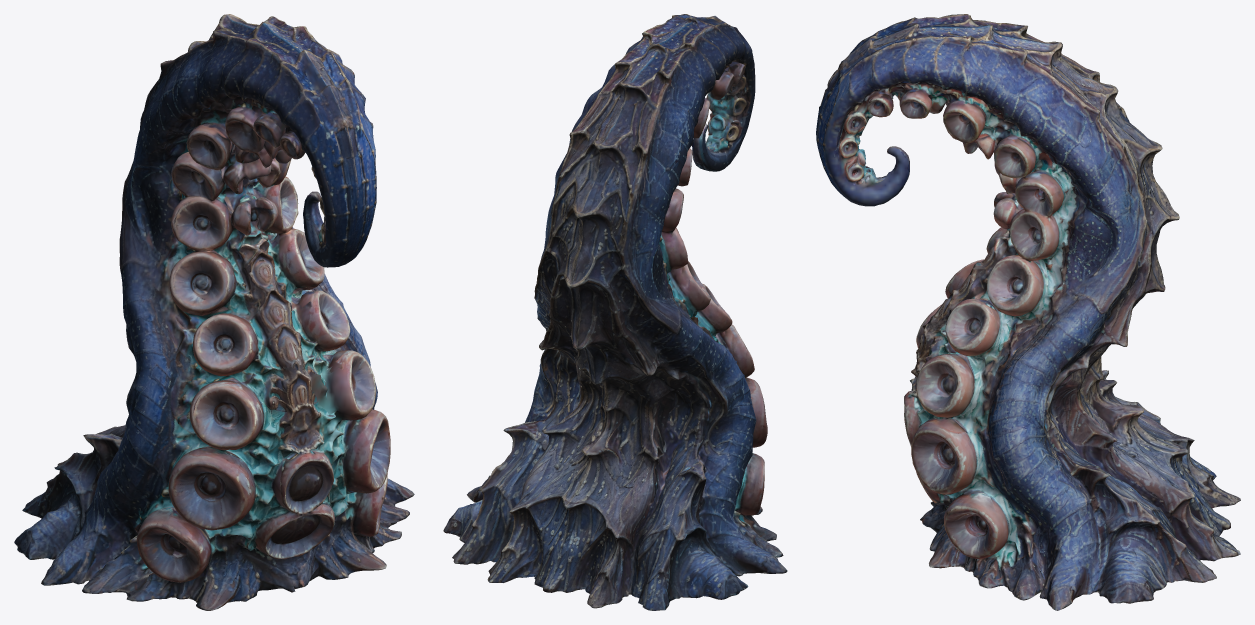
3 renders of one model, left to right at view 1: azimuth 30°, elevation 25°; view 2: azimuth 150°, elevation 25°; view 3: azimuth 270°, elevation 25°, orthographic. The views are drawn at different scales.
Visible parts, largest first — view 1: surface_7; view 2: surface_7; view 3: surface_7.
Boxes of the visible parts, x1=… form: surface_7: x1=14, y1=14, x2=414, y2=610; surface_7: x1=443, y1=14, x2=787, y2=610; surface_7: x1=816, y1=14, x2=1240, y2=610.
Bounding box in the file's own units: 0.709 × 0.9934 × 0.7595.
Materials: 1 (1 with a texture image).
